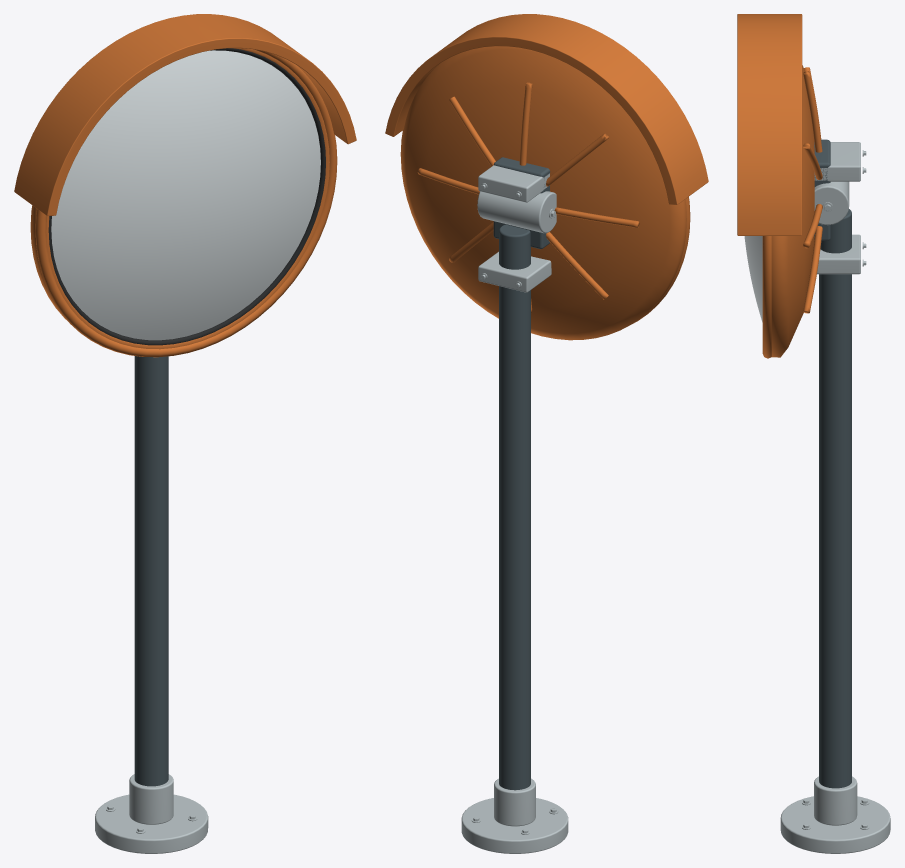
Rendered from city-convex-mirror.glb.
The picture shows the model from 3 angles, left to right: view 1: azimuth 30°, elevation 25°; view 2: azimuth 150°, elevation 25°; view 3: azimuth 270°, elevation 25°; orthographic projection. The views are drawn at different scales.
Parts seen in each view (by area): view 1: Convex reflective face, Mirror weather visor, Mirror tubular post, Rolled orange rim, Mirror ground footplate, Mirror retaining gasket, Convex mirror backing, Post foot collar; view 2: Convex mirror backing, Mirror tubular post, Mirror weather visor, Mirror ground footplate, Rear tilt pivot, Post clamp bracket.001, Post clamp bracket, Post foot collar, Rear ball mounting bracket, Backing radial stiffening rib.004, Backing radial stiffening rib.005, Backing radial stiffening rib.002; view 3: Mirror tubular post, Mirror weather visor, Convex mirror backing, Mirror ground footplate, Post foot collar, Post clamp bracket.001, Rear tilt pivot, Rolled orange rim, Post clamp bracket, Convex reflective face, Backing radial stiffening rib.007, Rear ball mounting bracket (+2 smaller).
Part boxes in pixels (x1,y1,x2,y2): Convex reflective face: [51, 50, 320, 340]; Mirror weather visor: [14, 14, 356, 215]; Mirror tubular post: [134, 356, 168, 786]; Rolled orange rim: [35, 49, 337, 357]; Mirror ground footplate: [95, 794, 208, 853]; Mirror retaining gasket: [48, 48, 325, 345]; Convex mirror backing: [30, 48, 329, 349]; Post foot collar: [129, 774, 173, 824]; Convex mirror backing: [400, 46, 686, 340]; Mirror tubular post: [499, 224, 530, 790]; Mirror weather visor: [385, 14, 708, 204]; Mirror ground footplate: [461, 798, 568, 853]; Rear tilt pivot: [477, 191, 556, 233]; Post clamp bracket.001: [478, 165, 549, 202]; Post clamp bracket: [478, 251, 551, 292]; Post foot collar: [494, 778, 535, 826]; Rear ball mounting bracket: [493, 157, 550, 249]; Backing radial stiffening rib.004: [554, 207, 639, 227]; Backing radial stiffening rib.005: [546, 232, 608, 299]; Backing radial stiffening rib.002: [519, 82, 532, 165]; Mirror tubular post: [819, 209, 851, 788]; Mirror weather visor: [737, 14, 802, 235]; Convex mirror backing: [771, 65, 814, 357]; Mirror ground footplate: [780, 796, 890, 853]; Post foot collar: [814, 776, 857, 825]; Post clamp bracket.001: [814, 142, 860, 181]; Rear tilt pivot: [814, 181, 849, 225]; Rolled orange rim: [762, 236, 771, 358]; Post clamp bracket: [817, 234, 860, 274]; Convex reflective face: [744, 236, 762, 322]; Backing radial stiffening rib.007: [803, 226, 822, 313]; Rear ball mounting bracket: [814, 139, 830, 240].
Bounding box in the file's own units: 0.8835 × 2.25 × 0.39.
